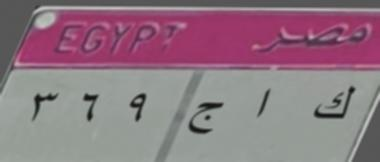3: (25, 84, 61, 127)
6: (76, 86, 100, 124)
9: (125, 87, 152, 128)
alif: (250, 84, 276, 118)
jeem: (184, 96, 226, 141)
kaaf: (307, 82, 358, 128)
